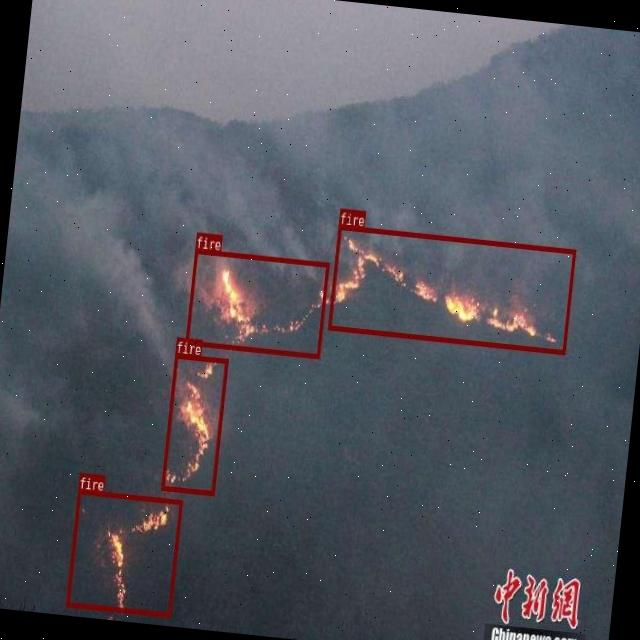fire: (326, 224, 575, 354), (185, 248, 329, 358), (66, 488, 182, 616), (160, 352, 228, 495)
